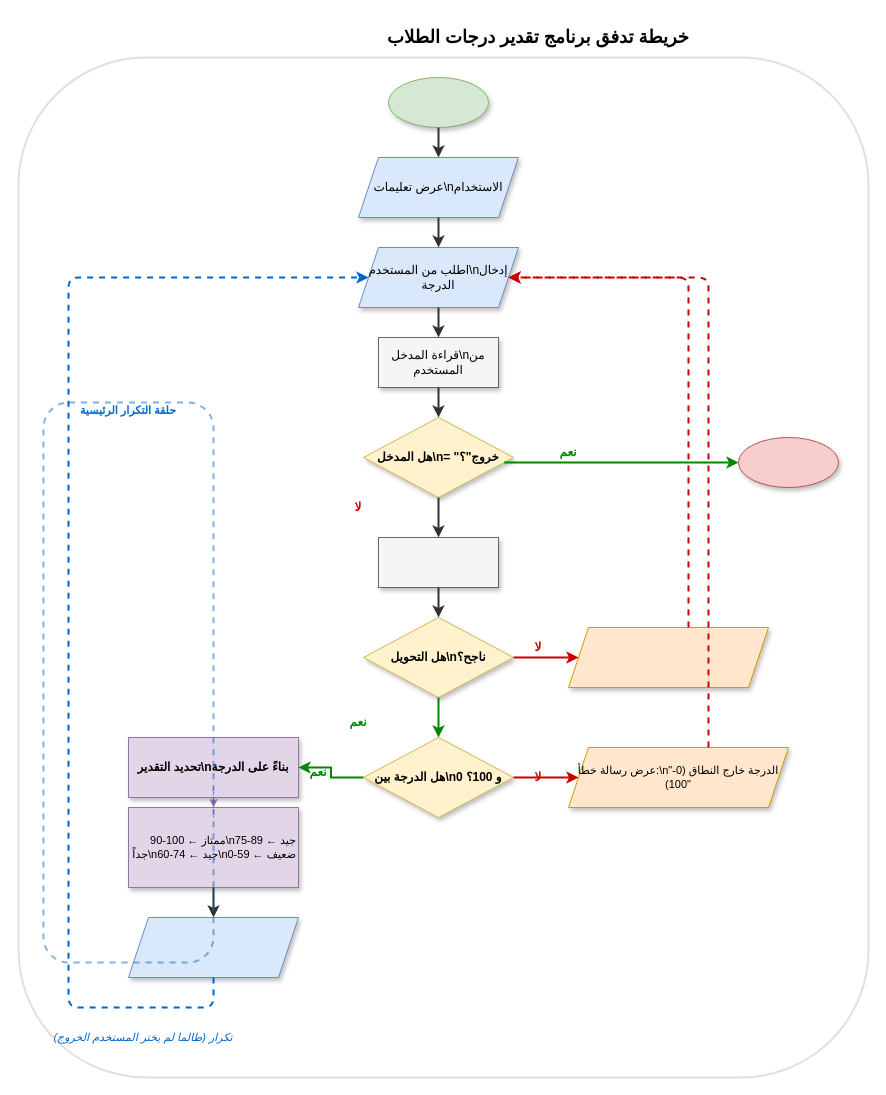
Some shapes in this 886 by 1095 pixel diagram are drawn without their labels. Each missing label, with the centre of its shape:
بداية: the point at 439,103
عرض النتيجة:\nالدرجة + التقدير: the point at 214,948
عرض رسالة خطأ:\n"الرجاء إدخال رقم صحيح": the point at 669,658
محاولة تحويل\nالمدخل إلى رقم: the point at 439,563
نهاية: the point at 789,463
